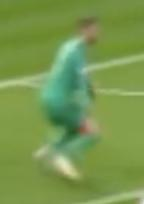goalkeeper: (26, 9, 128, 193)
